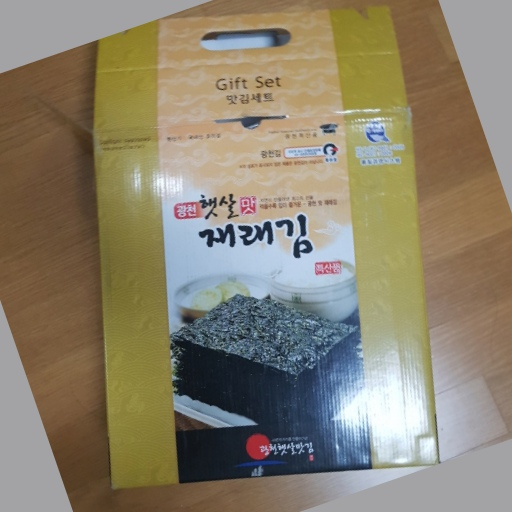Paper_0: (87, 4, 447, 490)
